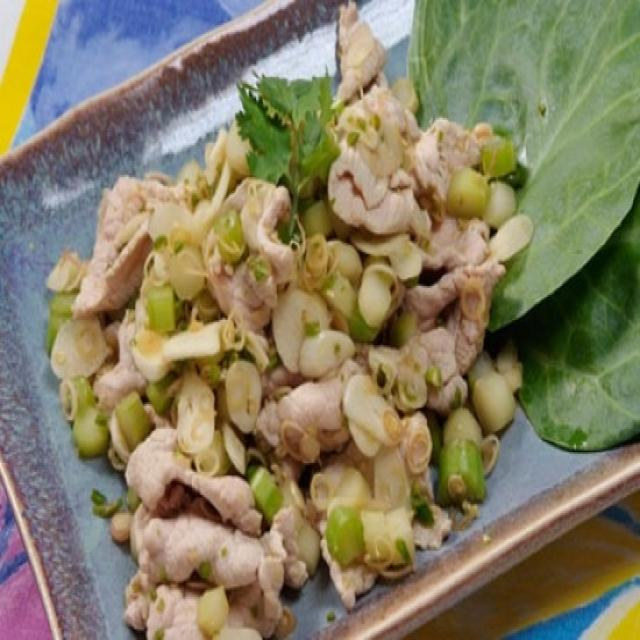猪肉菜式: (29, 13, 627, 631)
